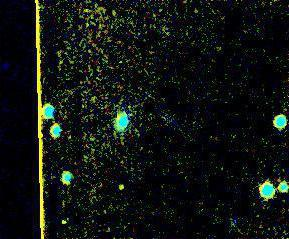star: (104, 171, 134, 201)
